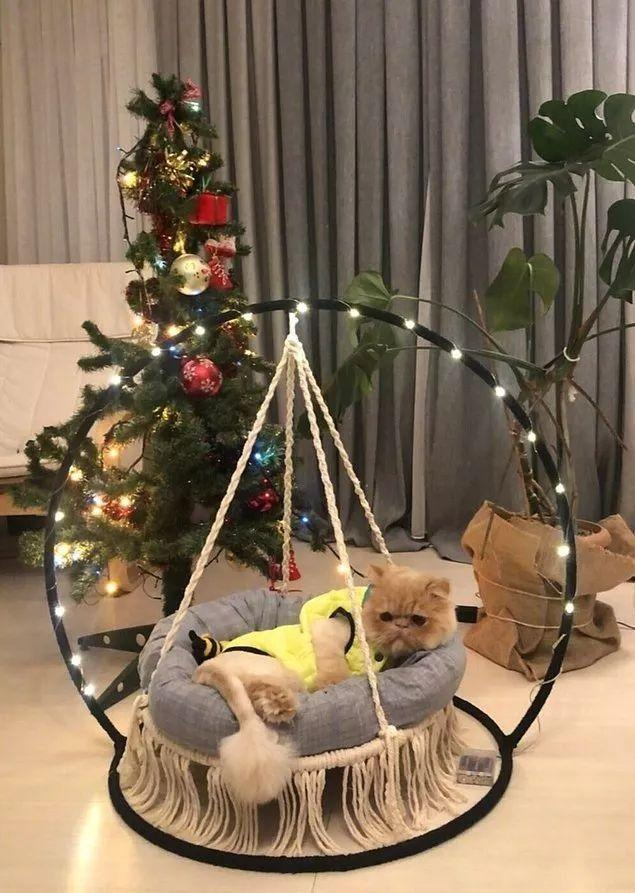kedo: (363, 565, 453, 651)
